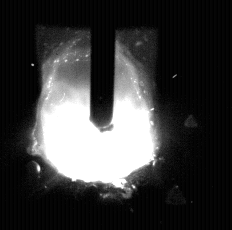arame: (91, 0, 116, 134)
poca: (42, 0, 154, 230)
